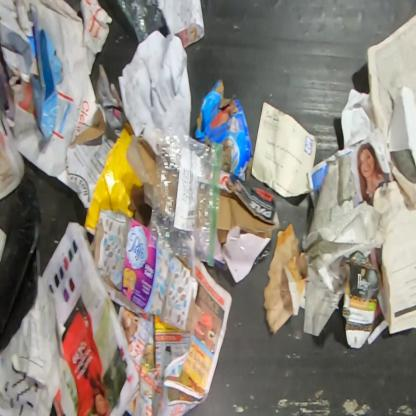cardboard: (90, 210, 203, 331), (66, 62, 128, 210), (215, 169, 280, 284), (195, 78, 254, 182), (26, 18, 63, 136), (342, 250, 382, 350), (124, 135, 158, 210)
rigid_plastic: (0, 173, 42, 356)
soft_plastic: (150, 124, 223, 268), (116, 0, 169, 45), (64, 0, 81, 14)
